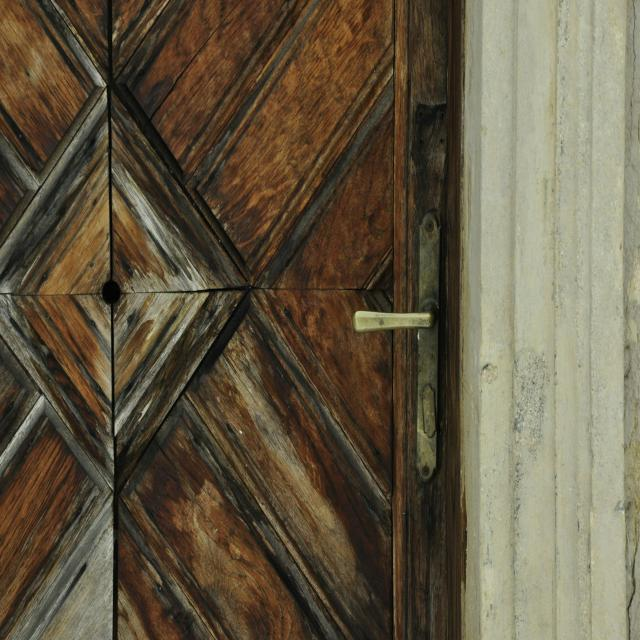door-handle: (352, 299, 438, 333)
